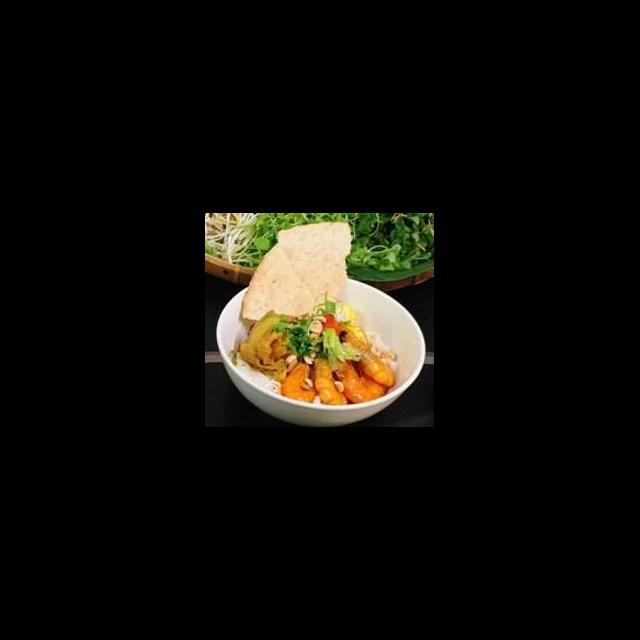banh da: (240, 219, 356, 325)
mi: (232, 349, 286, 398), (364, 329, 402, 374)
tom: (338, 329, 398, 388), (332, 353, 392, 404), (310, 352, 354, 408), (278, 355, 320, 406)
